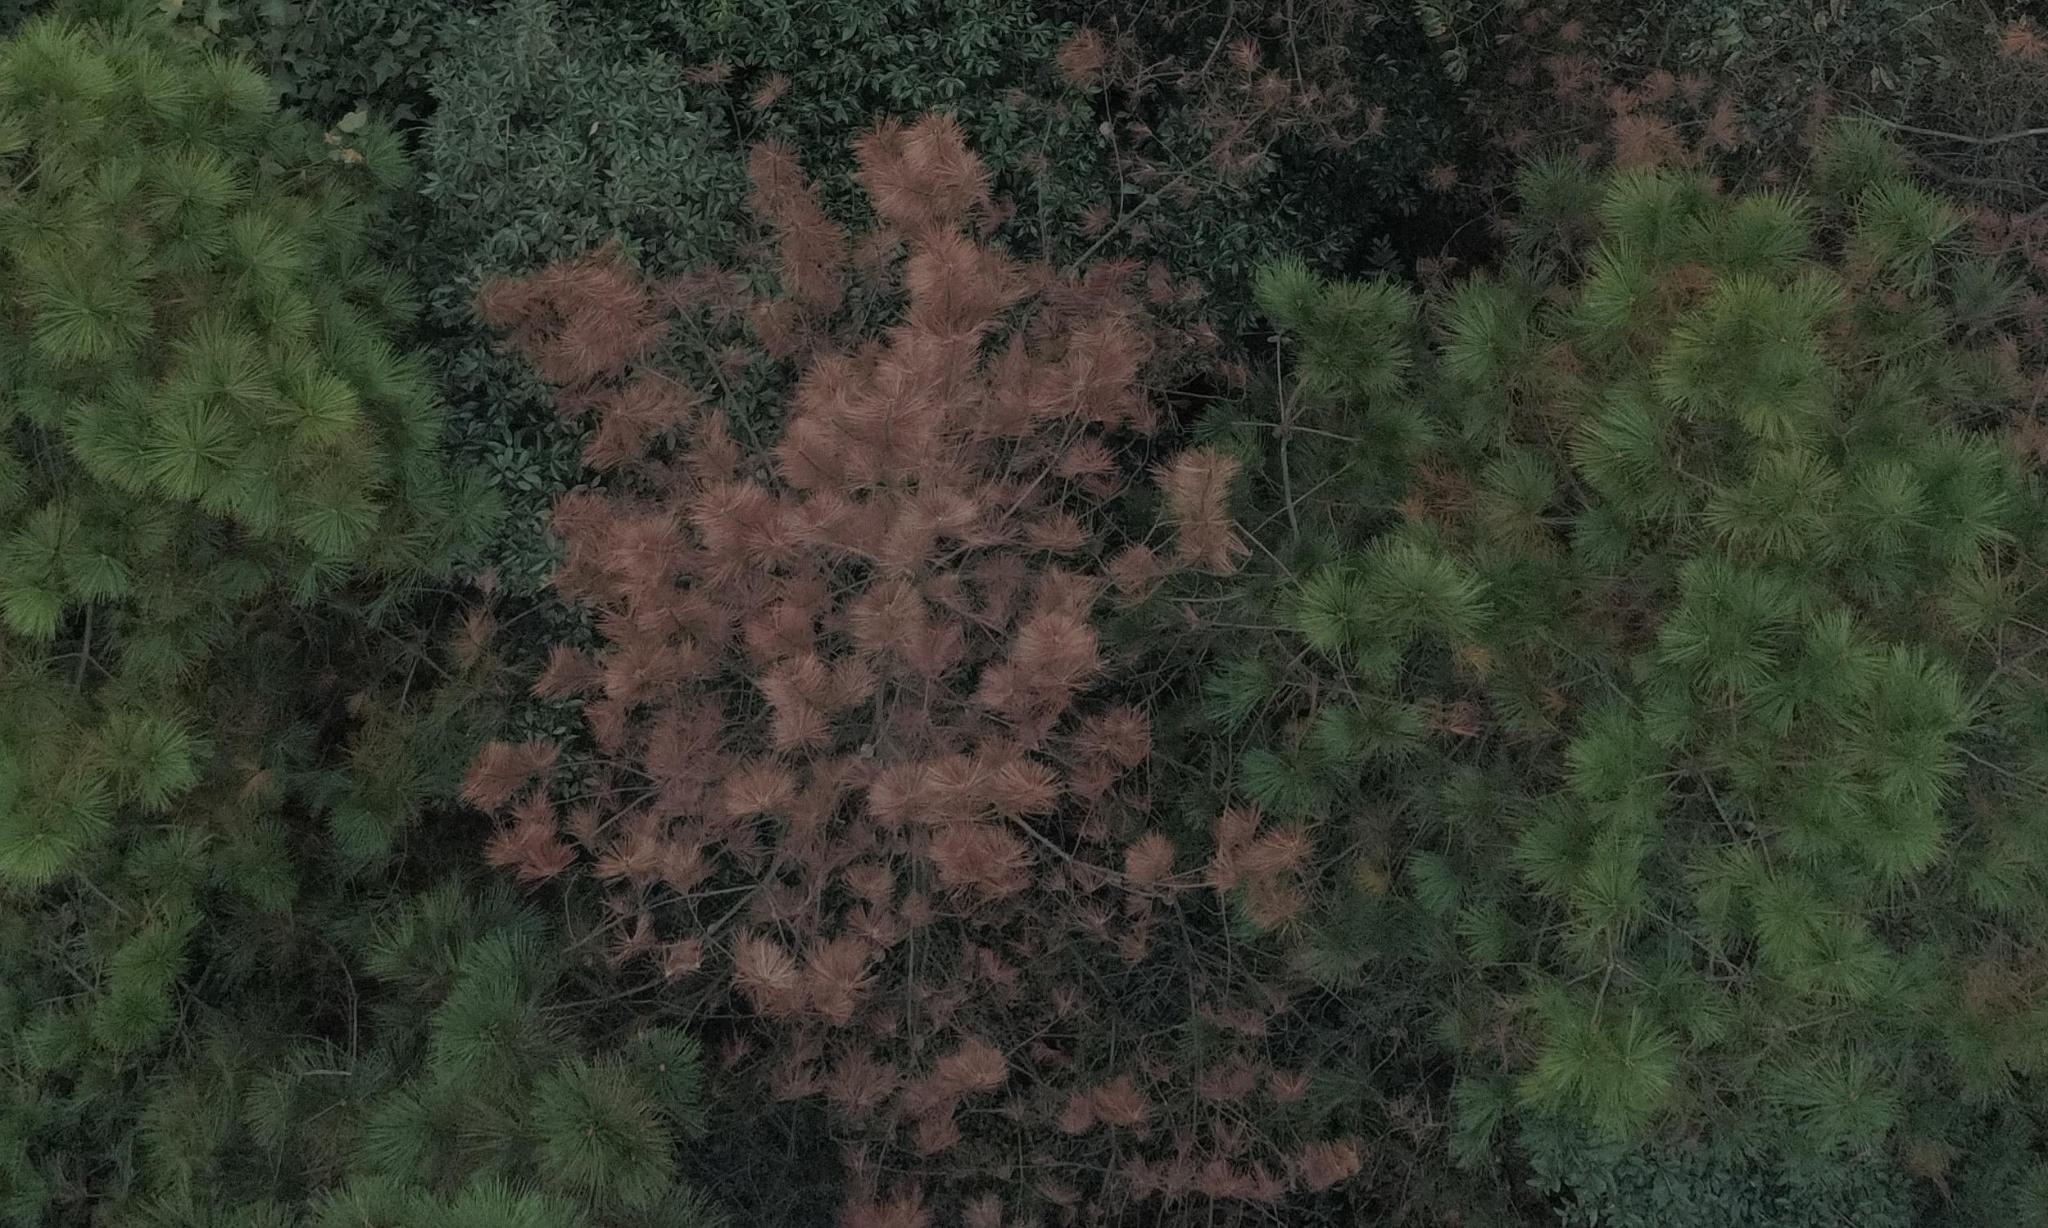heavy: (462, 105, 1209, 1178)
light: (1386, 85, 1728, 949)
